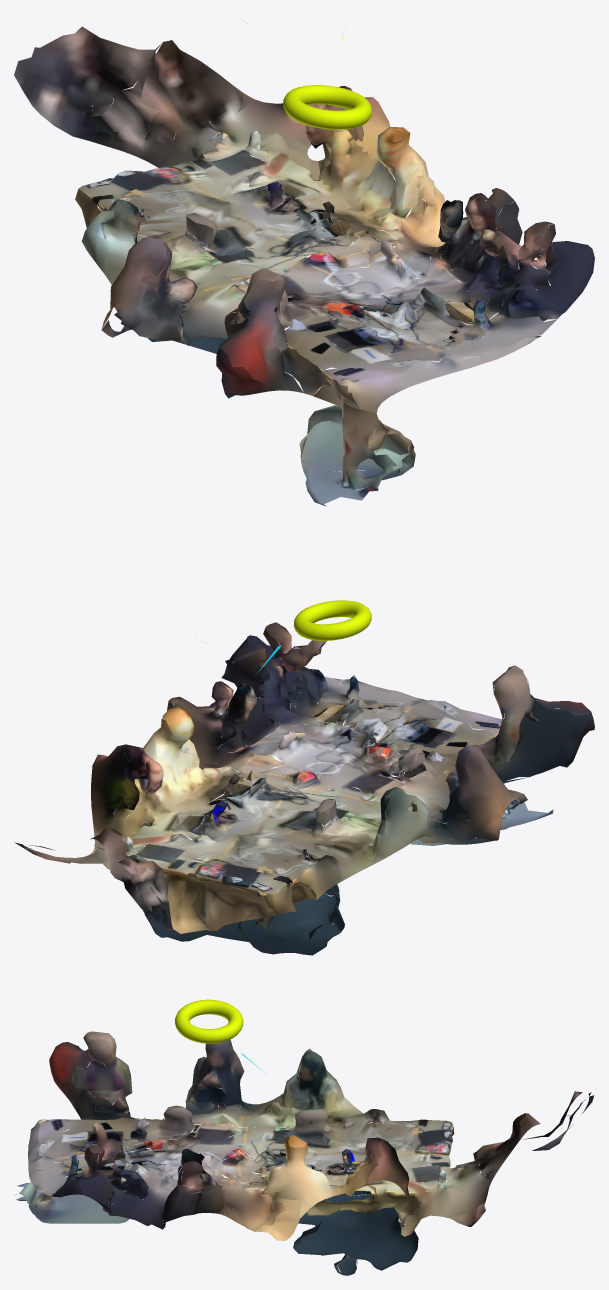
Rendered from kurs-scan.glb.
3 renders of one model, top to bottom at view 1: azimuth 30°, elevation 25°; view 2: azimuth 150°, elevation 25°; view 3: azimuth 270°, elevation 25°, orthographic. The views are drawn at different scales.
Parts seen in each view (by area): view 1: Mesh_0.001, test0.AutoSave.10-536.524; view 2: Mesh_0.001, test0.AutoSave.10-536.524; view 3: Mesh_0.001, test0.AutoSave.10-536.524.
Part boxes in pixels (x1,y1,x2,y2): Mesh_0.001: [14, 26, 594, 506]; test0.AutoSave.10-536.524: [283, 85, 371, 129]; Mesh_0.001: [14, 622, 594, 955]; test0.AutoSave.10-536.524: [293, 600, 371, 640]; Mesh_0.001: [15, 1031, 594, 1275]; test0.AutoSave.10-536.524: [175, 999, 243, 1043].
Size of what is drawn, in the model's own units: 3.13 by 2.53 by 5.04.
6 materials, 1 textured.
